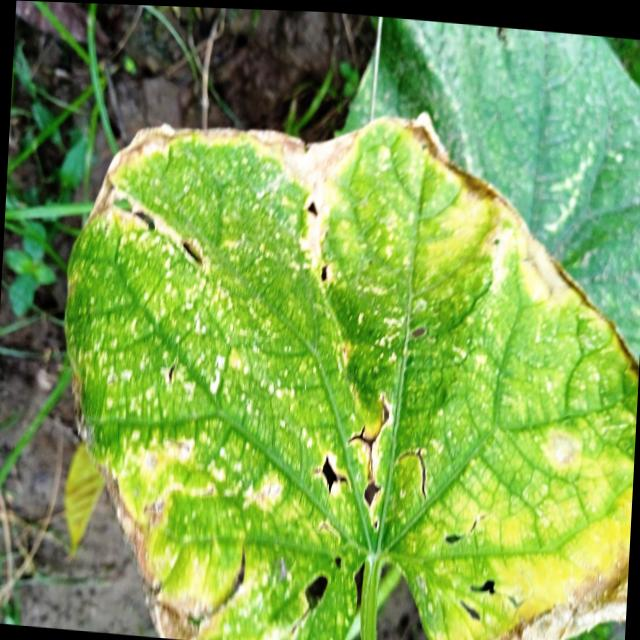Gummy-Stem-Blight: (81, 108, 586, 305), (482, 547, 629, 640)
